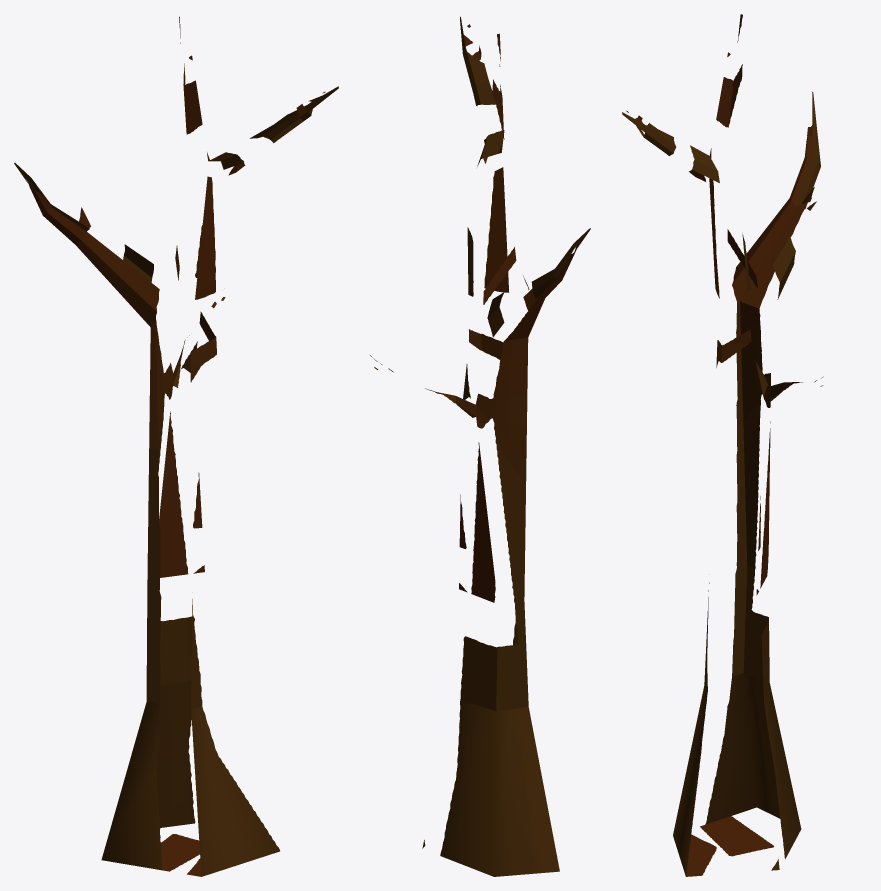
Rendered from drzewo8.obj.
3 renders of one model, left to right at view 1: azimuth 30°, elevation 25°; view 2: azimuth 150°, elevation 25°; view 3: azimuth 270°, elevation 25°, orthographic. The views are drawn at different scales.
Parts seen in each view (by area): view 1: Cylinder002; view 2: Cylinder002; view 3: Cylinder002.
Boxes of the visible parts, x1,y1,x2,y2 form: Cylinder002: (14,16,338,876); Cylinder002: (370,16,590,876); Cylinder002: (622,14,823,876).
Bounding box in the file's own units: 23.2 × 80.51 × 21.8.
